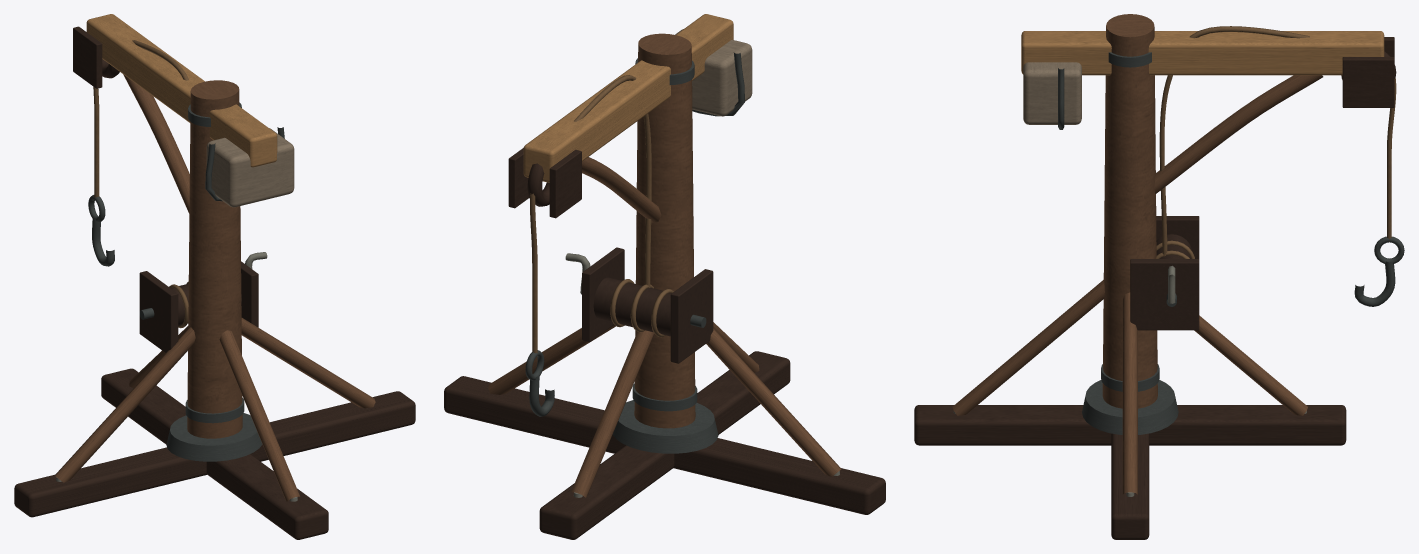
Rendered from dock_crane.glb.
The picture shows the model from 3 angles, left to right: view 1: azimuth 30°, elevation 25°; view 2: azimuth 150°, elevation 25°; view 3: azimuth 270°, elevation 25°; orthographic projection. The views are drawn at different scales.
Parts seen in each view (by area): view 1: dock_crane; view 2: dock_crane; view 3: dock_crane.
Boxes of the visible parts, x1,y1,x2,y2 form: dock_crane: (14, 14, 415, 539); dock_crane: (444, 14, 885, 539); dock_crane: (914, 14, 1404, 539).
Bounding box in the file's own units: 2.8 × 2.6 × 2.8.
Materials: 1 (1 with a texture image).
